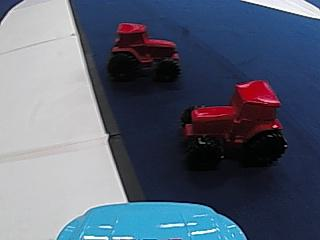Tracktor: (175, 78, 289, 168), (108, 19, 182, 81)
